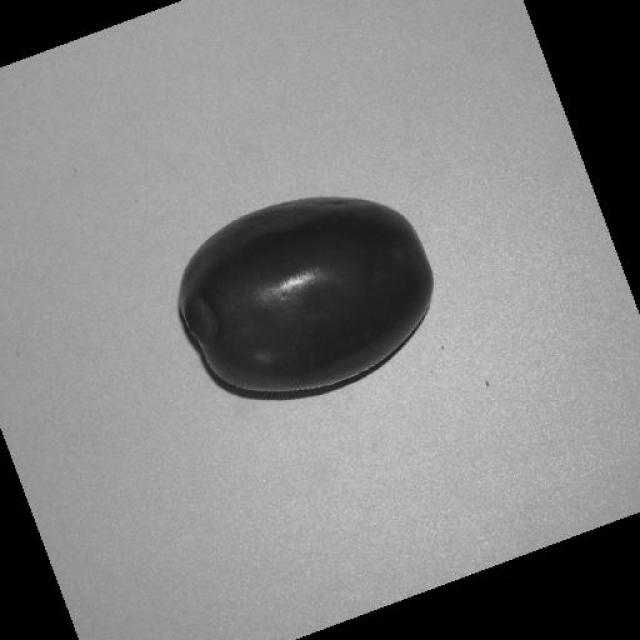Stale_tomato: (168, 192, 456, 387)
